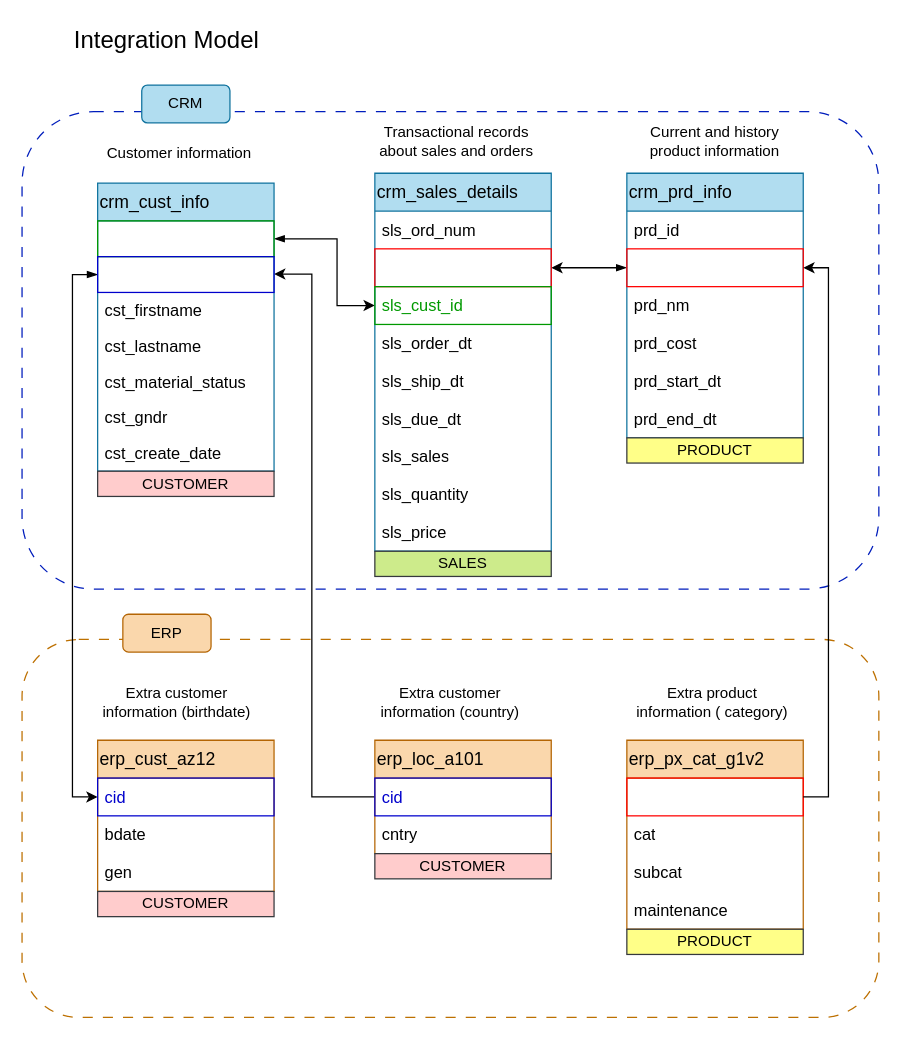
Image size: 901x1040. Some labels were removed from this diagram. The shapes that lost their labels are listed below. From the top down, each one's centre as x and y in pixels, then its label:
At point 185,238: "cst_id".
At point 185,273: "cst_key".
At point 462,267: "sls_prd_key".
At point 714,267: "prd_key".
At point 714,796: "id".
